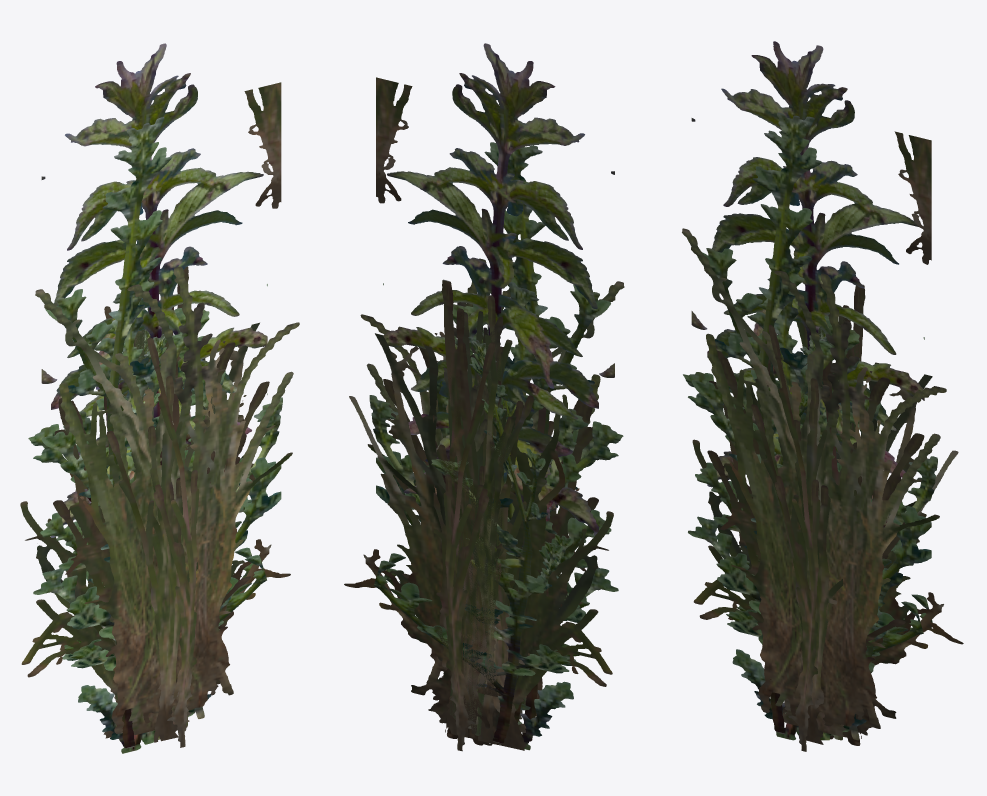
The model's file is grass.obj.
3 views of the same model, side by side, from view 1: azimuth 30°, elevation 25°; view 2: azimuth 150°, elevation 25°; view 3: azimuth 330°, elevation 25° (orthographic).
Parts seen in each view (by area): view 1: Cube.001, Cube.007, Cube.006, Cube.015, Cube.008, Cube.004, Cube.019_Cube.020, Cube.003, Cube.000_Cube.019, Cube.005; view 2: Cube.007, Cube.003, Cube.005, Cube.013, Cube.008, Cube.006, Cube.014, Cube.002, Cube.001, Cube.004, Cube.016, Cube.017 (+5 smaller); view 3: Cube.001, Cube.007, Cube.006, Cube.008, Cube.003, Cube.015, Cube.004, Cube.019_Cube.020, Cube.000_Cube.019, Cube.013.
Part boxes in pixels (box(x1,y1,x2,y2)): Cube.001: box(35, 266, 299, 733); Cube.007: box(51, 43, 267, 537); Cube.006: box(41, 82, 281, 748); Cube.015: box(106, 375, 197, 742); Cube.008: box(28, 293, 282, 753); Cube.004: box(53, 342, 269, 734); Cube.019_Cube.020: box(147, 337, 209, 747); Cube.003: box(20, 322, 290, 727); Cube.000_Cube.019: box(70, 334, 266, 723); Cube.005: box(60, 329, 253, 660); Cube.007: box(383, 43, 598, 546); Cube.003: box(344, 333, 613, 745); Cube.005: box(373, 337, 570, 743); Cube.013: box(433, 279, 495, 737); Cube.008: box(369, 282, 623, 750); Cube.006: box(376, 77, 614, 741); Cube.014: box(433, 342, 495, 751); Cube.002: box(470, 344, 529, 696); Cube.001: box(360, 258, 624, 716); Cube.004: box(383, 347, 598, 732); Cube.016: box(487, 380, 541, 750); Cube.017: box(465, 295, 526, 742); Cube.001: box(682, 228, 946, 728); Cube.007: box(707, 41, 924, 527); Cube.006: box(691, 112, 931, 733); Cube.008: box(683, 278, 937, 740); Cube.003: box(692, 362, 963, 745); Cube.015: box(751, 378, 842, 744); Cube.004: box(707, 350, 924, 736); Cube.019_Cube.020: box(768, 324, 831, 751); Cube.000_Cube.019: box(726, 335, 923, 656); Cube.013: box(843, 284, 865, 738).
Bounding box in the file's own units: 0.4171 × 0.9674 × 0.1071.
Materials: 1 (1 with a texture image).
